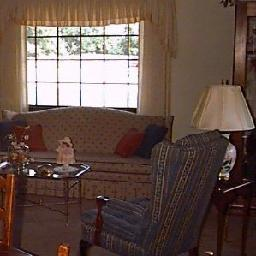Ventana: (22, 14, 148, 110)
